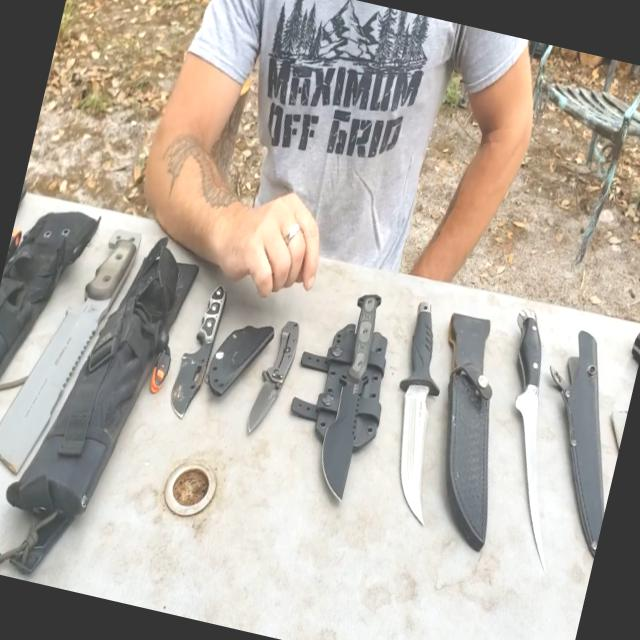knife: (0, 200, 153, 502), (454, 290, 618, 561), (275, 256, 418, 540), (366, 280, 486, 531), (225, 282, 329, 468), (152, 258, 248, 450)
